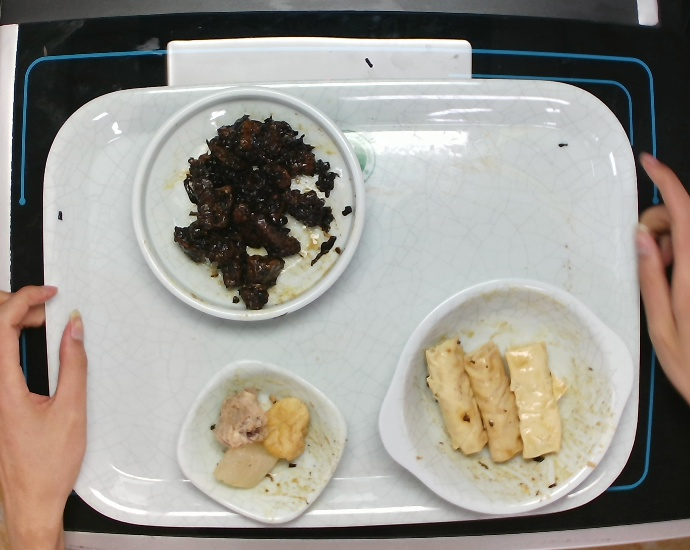JYsf-Shuang_Er_Wan: (374, 274, 642, 524)
JYsf-Si_Fang_Die: (162, 346, 355, 536)
JYsf-Xiao_Yuan_Pan: (125, 81, 369, 327)
